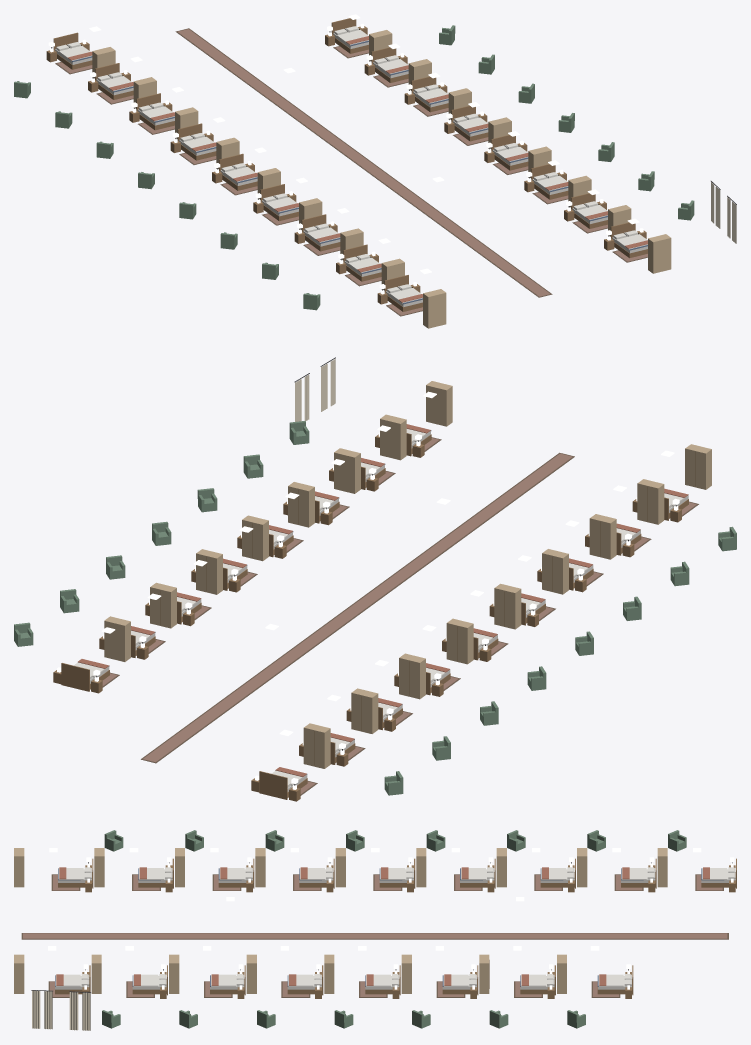
Rendered from fine-s1.glb.
3 views of the same model, one above another, from view 1: azimuth 30°, elevation 25°; view 2: azimuth 150°, elevation 25°; view 3: azimuth 270°, elevation 25° (orthographic). The views are drawn at different scales.
Parts seen in each view (by area): view 1: soft-s1, dresser.016, dresser.007, bed-frame.008, bed-frame.011, bed-frame.014, bed-frame.013, bed-frame.015, bed-frame.009, bed-frame.010, bed-frame.016, bed-frame.012 (+8 smaller); view 2: soft-s1, dresser.009, dresser.011, dresser.014, dresser.012, dresser.015, dresser.008, dresser.010, dresser.016, dresser.013, dresser.003, dresser.000 (+8 smaller); view 3: soft-s1, dresser.013, dresser.015, dresser.001, dresser.002, dresser.003, dresser.004, dresser.005, dresser.006, dresser.007, dresser.008, dresser.009 (+11 smaller).
Boxes of the visible parts, x1,y1,x2,y2 form: soft-s1: [48, 26, 736, 316]; dresser.016: [423, 289, 446, 328]; dresser.007: [648, 234, 671, 273]; bed-frame.008: [53, 32, 92, 69]; bed-frame.011: [177, 123, 216, 160]; bed-frame.014: [301, 214, 340, 251]; bed-frame.013: [260, 184, 298, 221]; bed-frame.015: [343, 244, 381, 281]; bed-frame.009: [95, 63, 133, 99]; bed-frame.010: [136, 93, 174, 130]; bed-frame.016: [384, 275, 422, 311]; bed-frame.012: [219, 153, 257, 190]; soft-s1: [74, 357, 698, 795]; dresser.009: [351, 688, 378, 733]; dresser.011: [446, 618, 473, 664]; dresser.014: [589, 514, 616, 559]; dresser.012: [494, 583, 521, 629]; dresser.015: [637, 479, 664, 524]; dresser.008: [303, 723, 330, 768]; dresser.010: [399, 653, 425, 699]; dresser.016: [685, 444, 711, 489]; dresser.013: [542, 549, 568, 594]; dresser.003: [242, 515, 268, 561]; dresser.000: [104, 616, 130, 661]; soft-s1: [21, 857, 734, 1030]; dresser.013: [255, 848, 265, 887]; dresser.015: [94, 848, 104, 887]; dresser.001: [479, 954, 489, 993]; dresser.002: [401, 954, 411, 993]; dresser.003: [324, 954, 334, 993]; dresser.004: [246, 954, 256, 993]; dresser.005: [169, 954, 179, 993]; dresser.006: [91, 954, 101, 993]; dresser.007: [14, 954, 24, 993]; dresser.008: [657, 848, 667, 887]; dresser.009: [577, 848, 587, 887].
Bounding box in the file's own units: 26.22 × 2.56 × 42.65.
